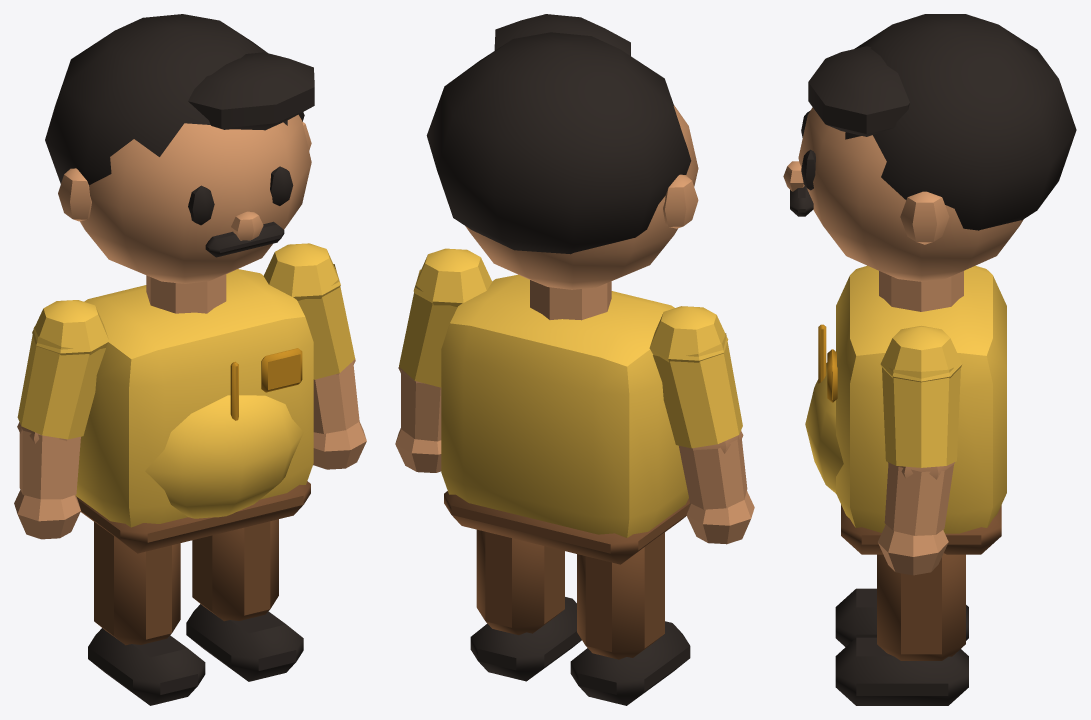
Rendered from trav_family_m.glb.
The picture shows the model from 3 angles, left to right: view 1: azimuth 30°, elevation 25°; view 2: azimuth 150°, elevation 25°; view 3: azimuth 270°, elevation 25°; orthographic projection. The views are drawn at different scales.
Parts seen in each view (by area): view 1: head, body, arm_r, leg_r, leg_l, arm_l; view 2: body, head, arm_r, leg_r, leg_l, arm_l; view 3: head, body, arm_l, leg_l, leg_r.
Boxes of the visible parts, left/top/right/bottom form: head: left=45, top=14, right=314, bottom=283; body: left=75, top=269, right=313, bottom=553; arm_r: left=14, top=300, right=109, bottom=539; leg_r: left=88, top=521, right=205, bottom=705; leg_l: left=186, top=519, right=303, bottom=681; arm_l: left=263, top=243, right=366, bottom=469; body: left=441, top=274, right=689, bottom=564; head: left=426, top=14, right=698, bottom=289; arm_r: left=649, top=306, right=754, bottom=544; leg_r: left=570, top=532, right=690, bottom=705; leg_l: left=470, top=529, right=581, bottom=681; arm_l: left=395, top=248, right=492, bottom=472; head: left=783, top=14, right=1076, bottom=281; body: left=805, top=265, right=1006, bottom=554; arm_l: left=878, top=326, right=962, bottom=575; leg_l: left=835, top=553, right=968, bottom=705; leg_r: left=835, top=588, right=968, bottom=646.
Bounding box in the file's own units: 0.598 × 1.04 × 0.429.
1 material, 1 textured.
